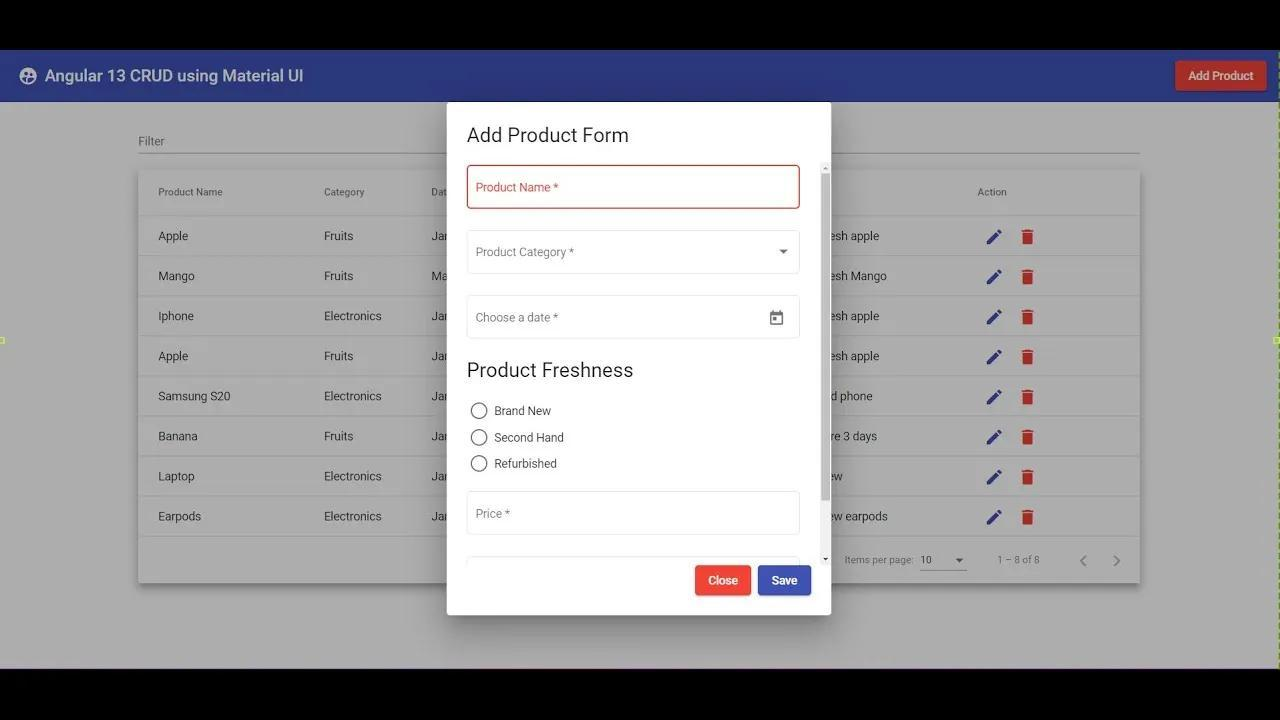button: (1169, 58, 1271, 96), (695, 566, 753, 597), (759, 565, 813, 596)
dropdown: (468, 232, 800, 276), (917, 552, 968, 571)
icon: (982, 509, 1008, 528), (986, 467, 1007, 490), (985, 349, 1005, 368), (1077, 550, 1094, 572), (986, 427, 1004, 447), (1020, 508, 1040, 526), (1021, 428, 1038, 449), (985, 269, 1004, 287), (986, 309, 1004, 328), (986, 390, 1005, 408), (1022, 348, 1038, 369), (1020, 468, 1038, 486), (1020, 308, 1037, 327), (1021, 268, 1037, 288), (1020, 389, 1036, 409), (986, 230, 1004, 247), (1109, 551, 1124, 570), (1022, 229, 1036, 249)
input: (469, 165, 801, 211), (467, 296, 801, 340), (468, 493, 801, 537)
label: (45, 67, 308, 93), (464, 358, 641, 383), (463, 124, 631, 148), (496, 432, 567, 446), (493, 459, 562, 472), (494, 405, 555, 419)
radio: (470, 402, 491, 422), (469, 455, 490, 474), (471, 430, 490, 448)
